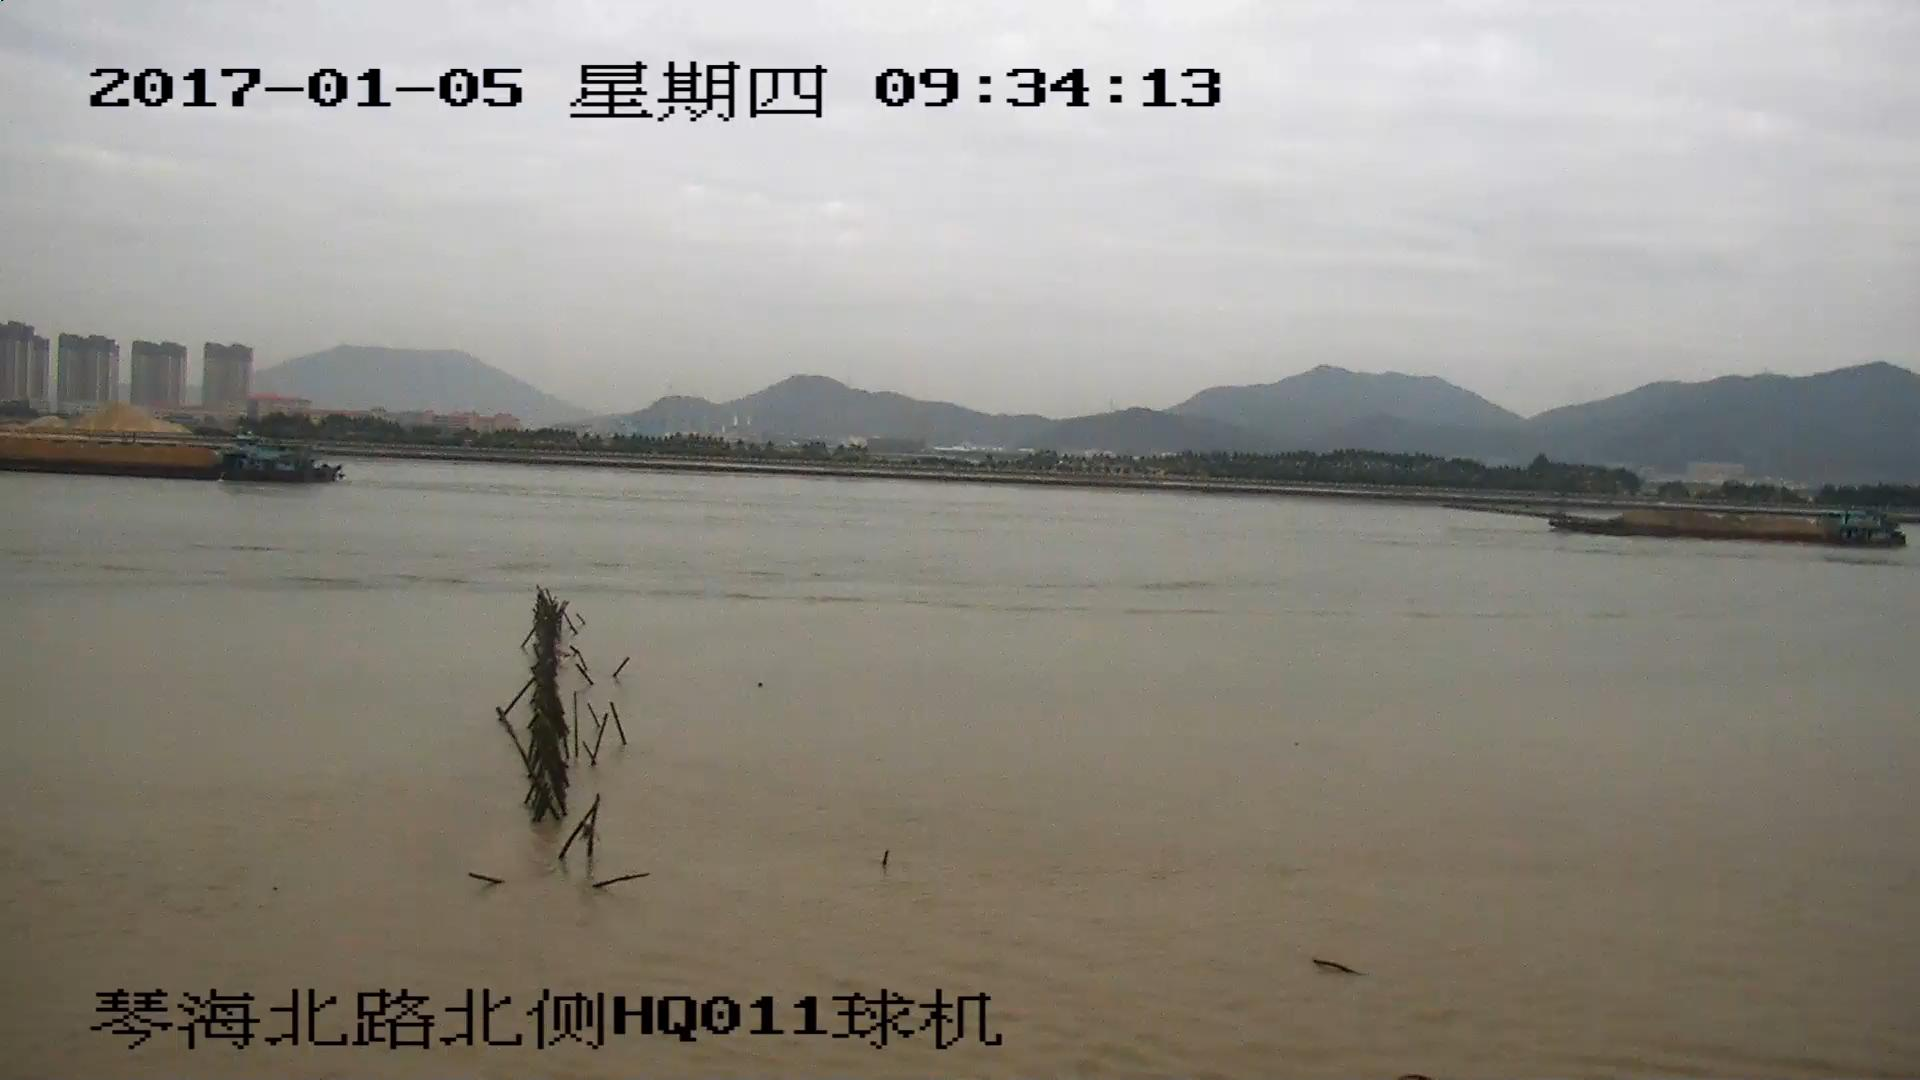ore carrier: (1452, 496, 1906, 546), (1, 434, 340, 480)
